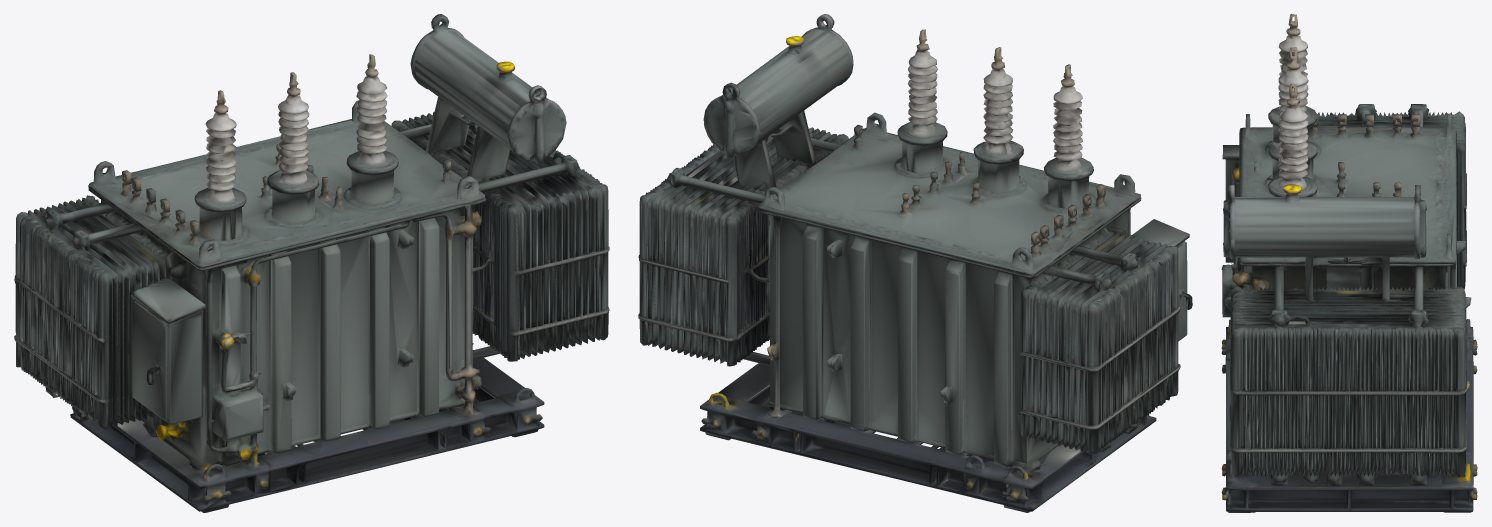
File: transformer-a.glb
The picture shows the model from 3 angles, left to right: view 1: azimuth 30°, elevation 25°; view 2: azimuth 150°, elevation 25°; view 3: azimuth 270°, elevation 25°; orthographic projection. The views are drawn at different scales.
Visible parts, largest first — view 1: node_0; view 2: node_0; view 3: node_0.
Part boxes in pixels (x1,y1,x2,y2): node_0: (14, 14, 609, 512); node_0: (638, 14, 1192, 512); node_0: (1221, 14, 1477, 512).
Size of the model in its own units: 1.02 by 0.7848 by 0.4964.
1 material, 1 textured.
